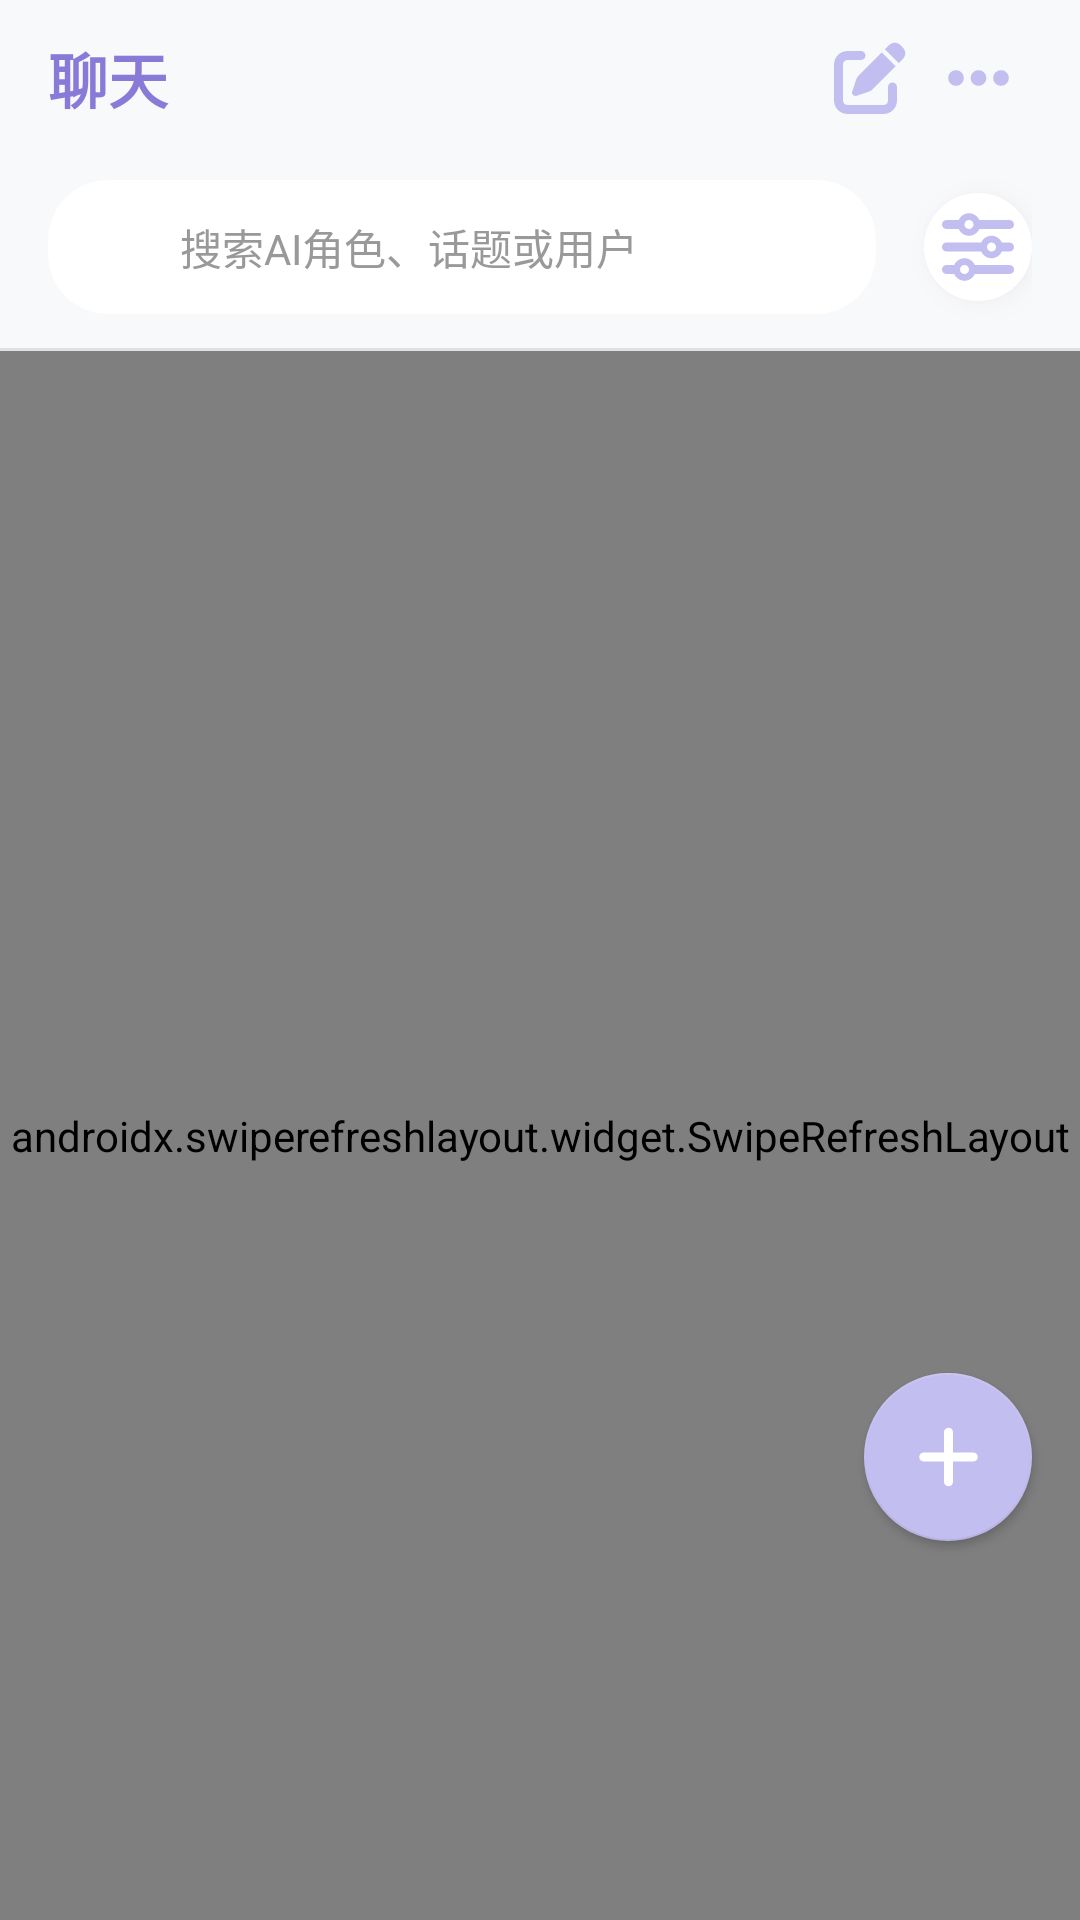

Named icons in this screenshot (1080px×1920px) and their bounding boxes, box(x1, y1, x2, y2):
edit: box(834, 43, 905, 114)
more: box(948, 70, 1009, 86)
sliders: box(924, 193, 1032, 301)
创建会话: box(864, 1373, 1032, 1541)
